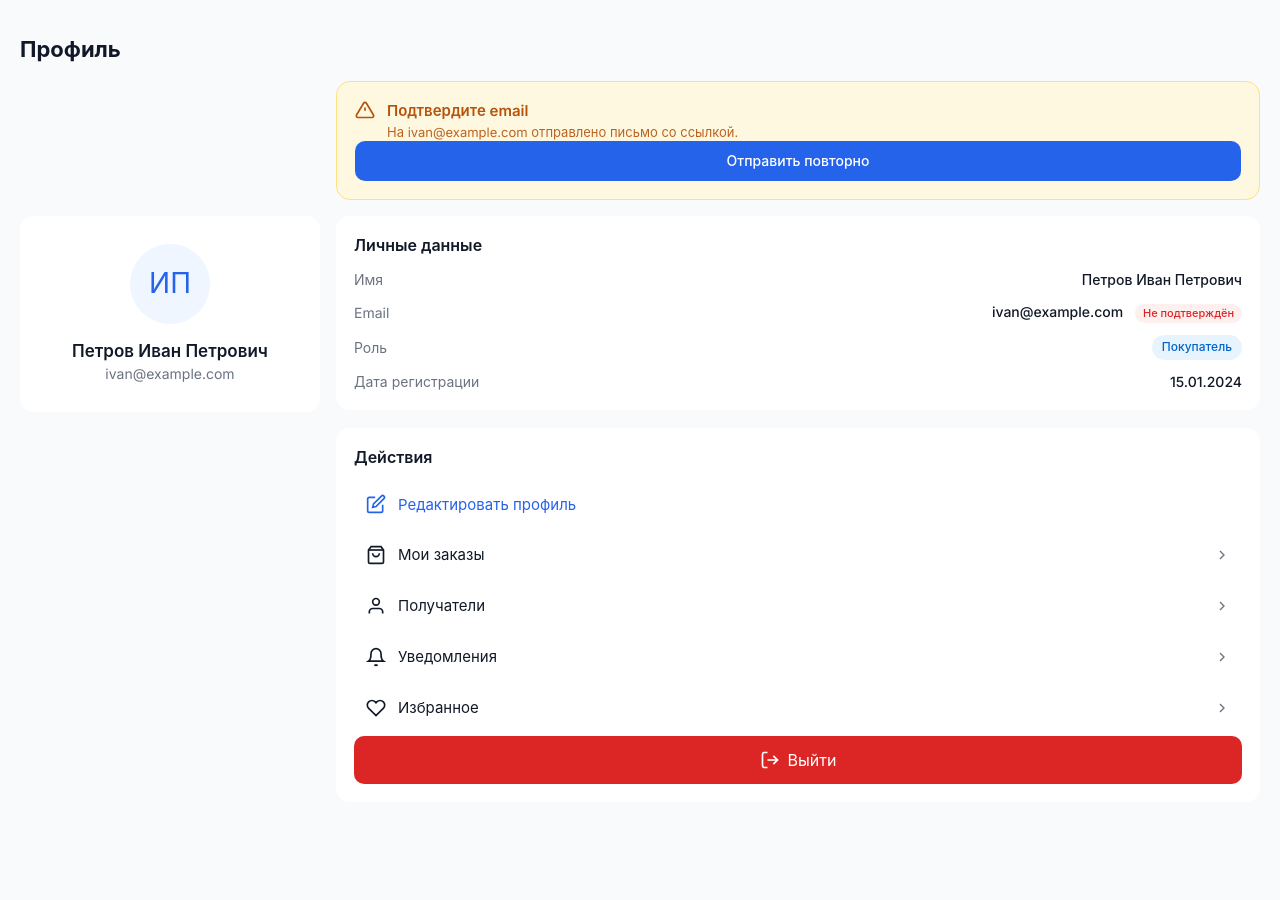
it: Profile.vue › показывает ошибку, если повторная отправка не удалась
The width and height of the screenshot is (1280, 900).
What coordinates should you click on to do the following:
click the button with test id "profile-resend-verification"
I would click on:
 (798, 161)
Its box is [355,141,1241,181].
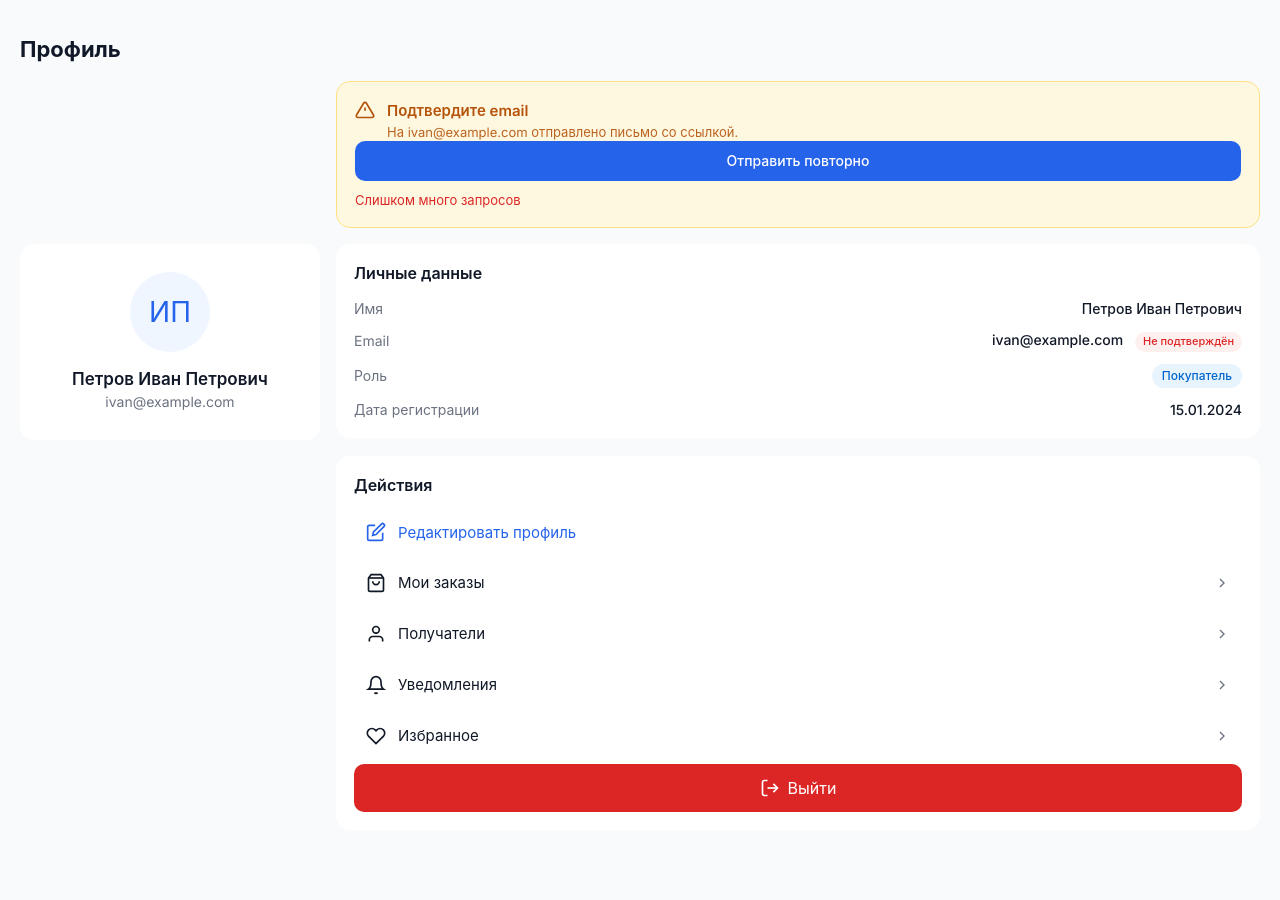
Check: the text with test id "profile-resend-error" reads "Слишком много запросов", box [355,192,521,208]
